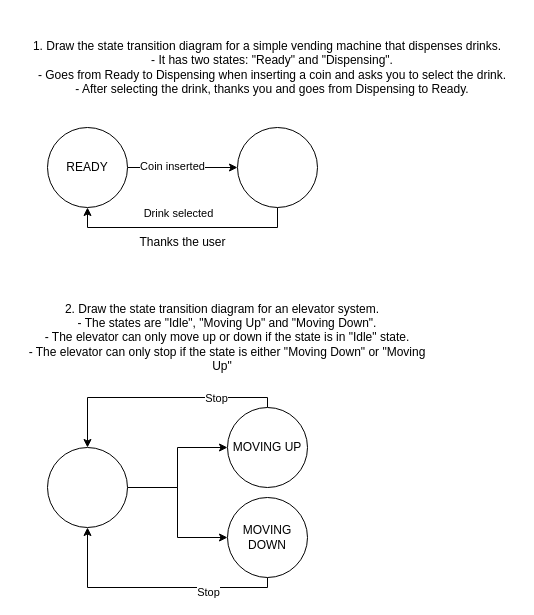
Some shapes in this 534 by 615 pixel diagram are drawn without their labels. The box of each missing label's shape, as (x1, y1, x2, y2) in pixels:
DISPENSING: (236, 126, 318, 208)
IDLE: (46, 446, 128, 528)
